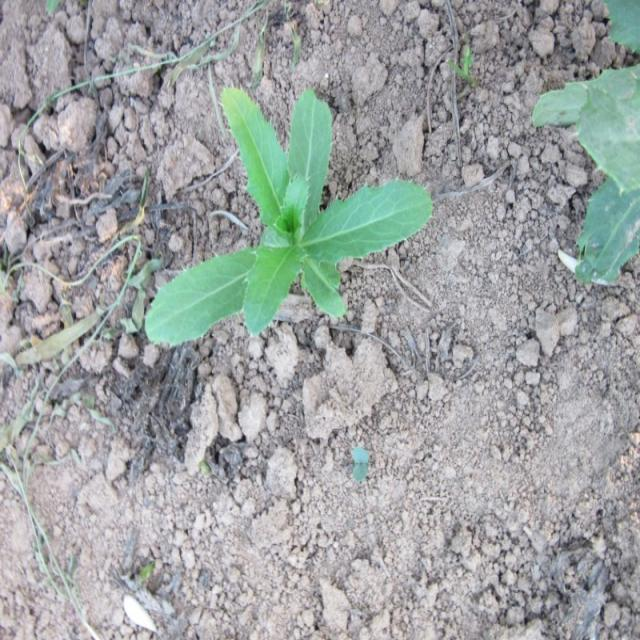cs: (144, 84, 437, 351)
